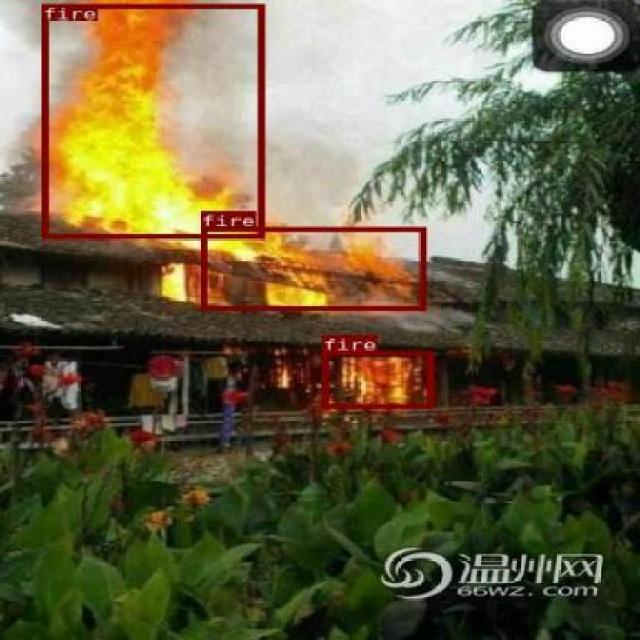Fire: (41, 3, 264, 237), (198, 226, 424, 309), (322, 350, 432, 408)
